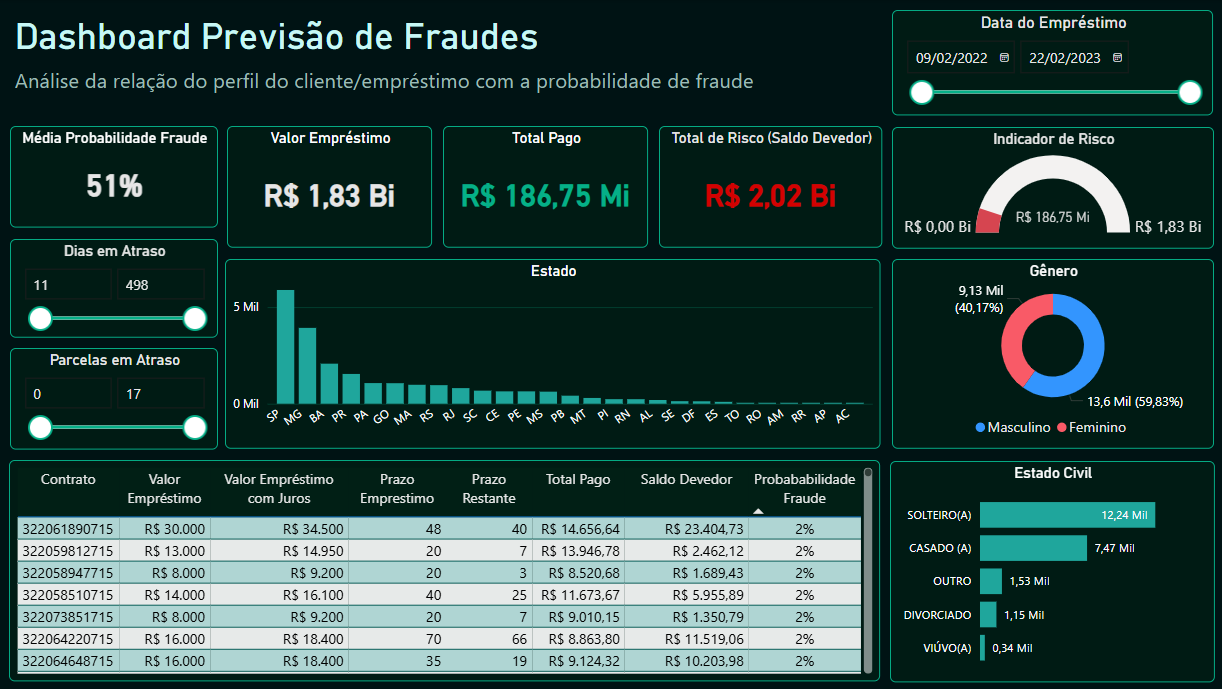

This screenshot's page, from the dashboard's own definition file:
{"tool":"powerbi","page":{"name":"dashboard","canvas":[1280,720],"ordinal":0},"visuals":[{"type":"slicer","title":"Data do Empréstimo","fields":{"Values":["dados.Data_Contratacao"]},"box":[932.5,11.6,335.4,109.9],"z":0},{"type":"slicer","title":"Parcelas em Atraso","fields":{"Values":["dados.QT_Parcelas_Atraso"]},"box":[13,364.3,216.9,105.5],"z":1000},{"type":"slicer","title":"Dias em Atraso","fields":{"Values":["dados.QT_Dias_Atraso"]},"box":[13,250.1,216.9,102.7],"z":2000},{"type":"card","title":"Valor Empréstimo","fields":{"Values":["Sum(dados.VL_Emprestimo)"]},"box":[238.6,133,214,127.2],"z":4000},{"type":"card","title":"Total Pago","fields":{"Values":["Sum(dados.Total_Pago)"]},"box":[464.1,133,214,127.2],"z":5000},{"type":"card","title":"Total de Risco (Saldo Devedor)","fields":{"Values":["Sum(dados.Saldo_Devedor)"]},"box":[689.6,133,232.8,127.2],"z":6000},{"type":"gauge","title":"Indicador de Risco","fields":{"MaxValue":["Sum(dados.VL_Emprestimo)"],"Y":["Sum(dados.Total_Pago)"]},"box":[933.2,133.5,335.8,126.6],"z":7000},{"type":"donutChart","title":"Gênero","fields":{"Y":["Count(dados.Contrato)"],"Category":["dados.Genero"]},"box":[933.2,271.1,335.8,198.2],"z":8000},{"type":"barChart","title":"Estado Civil","fields":{"Category":["dados.Estado_Civil"],"Y":["Count(dados.Contrato)"]},"box":[930.4,481.7,338.6,231.2],"z":9000},{"type":"columnChart","title":"Estado","fields":{"Y":["Count(dados.Contrato)"],"Category":["dados.UF_Cliente"]},"box":[237.1,271.8,683.9,198.1],"z":10000},{"type":"tableEx","fields":{"Values":["dados.Contrato","Sum(dados.VL_Emprestimo)","Sum(dados.VL_Emprestimo_ComJuros)","Sum(dados.Prazo_Emprestimo)","Sum(dados.Prazo_Restante)","Sum(dados.Total_Pago)","Sum(dados.Saldo_Devedor)","Sum(dados.PROBABILIDADES)"]},"box":[11.6,481.4,909.4,231.3],"z":11000},{"type":"card","title":"Média Probabilidade Fraude","fields":{"Values":["Avg(dados.PROBABILIDADES)"]},"box":[13,133,216.9,105.5],"z":11001},{"type":"textbox","box":[13,11.6,566.7,54.9],"z":11002},{"type":"textbox","box":[13,65.1,793.7,39],"z":11003}]}

Visuals, with their boxes in screenshot pixels (x1, y1, x2, y2), scaled from the page's 1280x720 canvas onto the 1222x689 screenshot:
"Data do Empréstimo" slicer: 890:11:1210:116
"Parcelas em Atraso" slicer: 12:349:219:450
"Dias em Atraso" slicer: 12:239:219:338
"Valor Empréstimo" card: 228:127:432:249
"Total Pago" card: 443:127:647:249
"Total de Risco (Saldo Devedor)" card: 658:127:881:249
"Indicador de Risco" gauge: 891:128:1211:249
"Gênero" donutChart: 891:259:1211:449
"Estado Civil" barChart: 888:461:1211:682
"Estado" columnChart: 226:260:879:450
tableEx - dados.Contrato x Sum(dados.VL_Emprestimo): 11:461:879:682
"Média Probabilidade Fraude" card: 12:127:219:228
textbox: 12:11:553:64
textbox: 12:62:770:100
